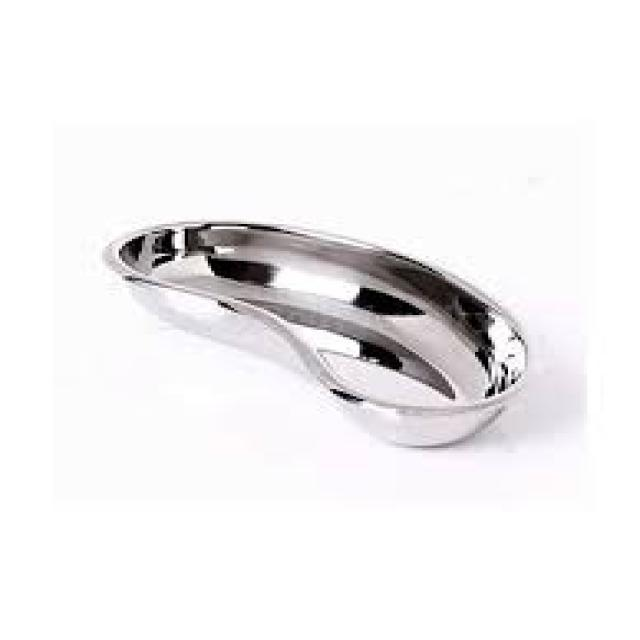Kidney Tray: (109, 205, 541, 464)
